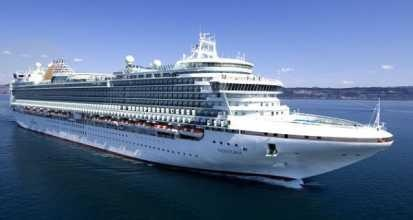youlun: (7, 27, 398, 181)
